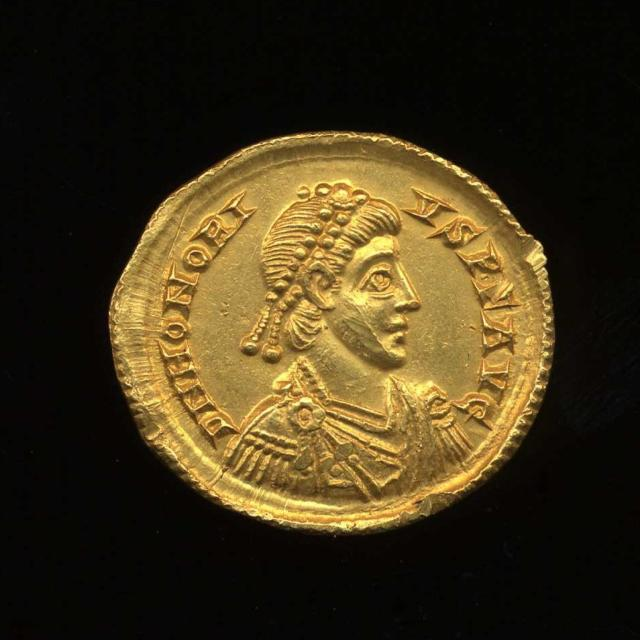Coin: (103, 129, 553, 537)
